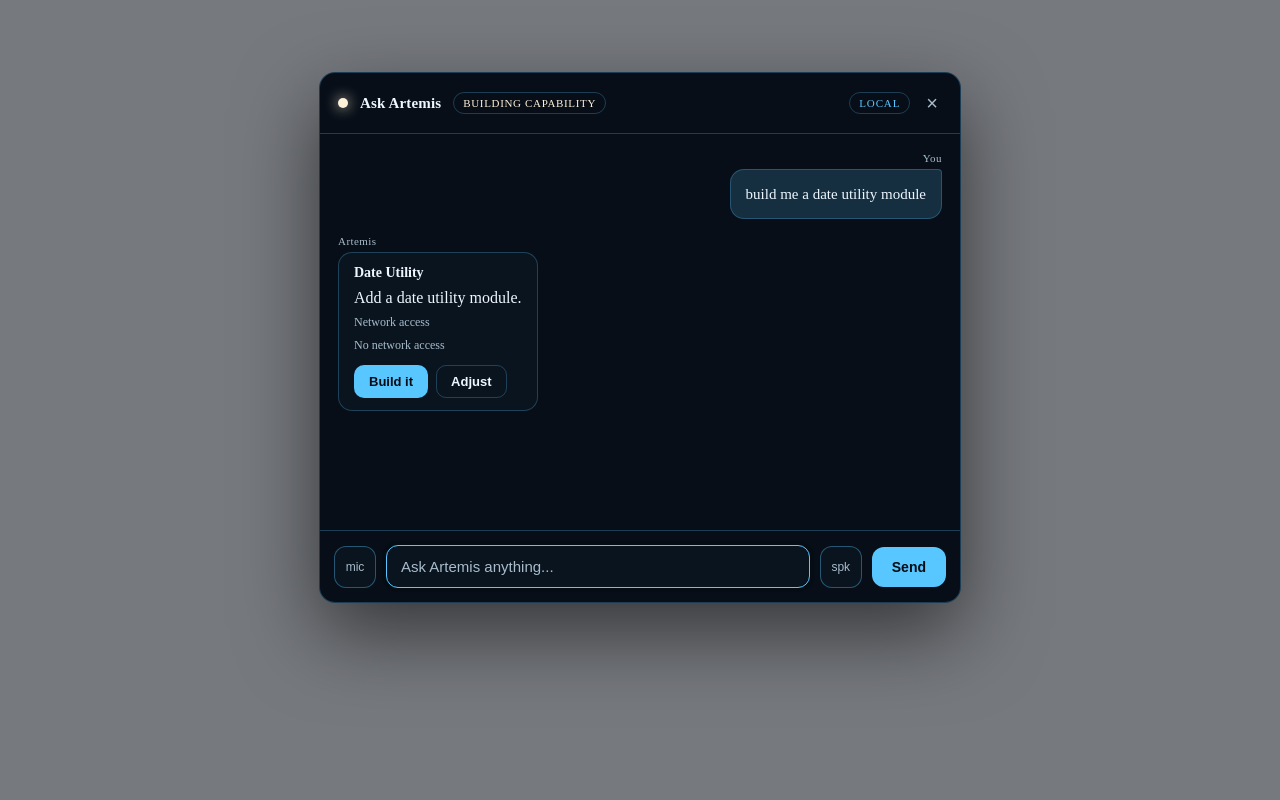
AskPopup › wires Adjust to cancelBuild with the plan message id and removes the plan card
Click the button "Adjust".
click(471, 382)  # box [436,365,506,398]
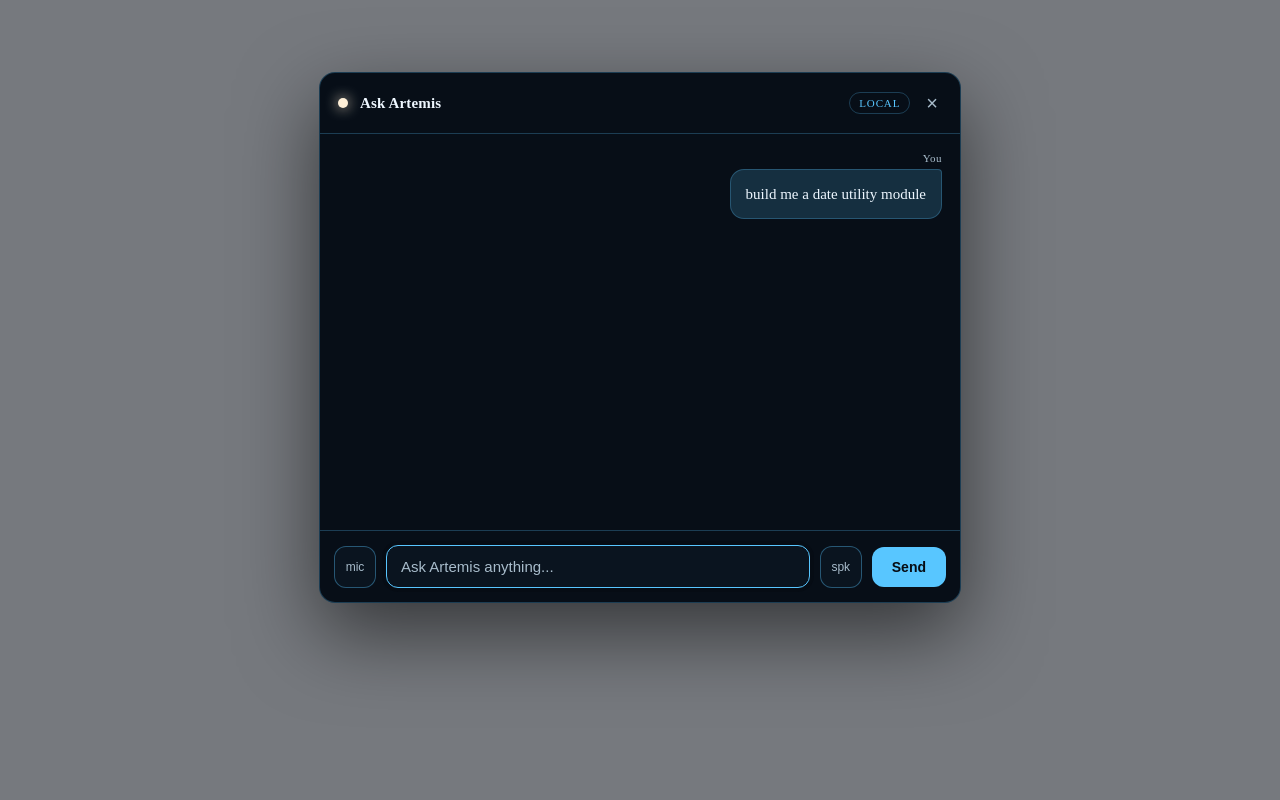
expect the text "Date Utility" is not shown: met
expect the text "Building capability" is gone: met
